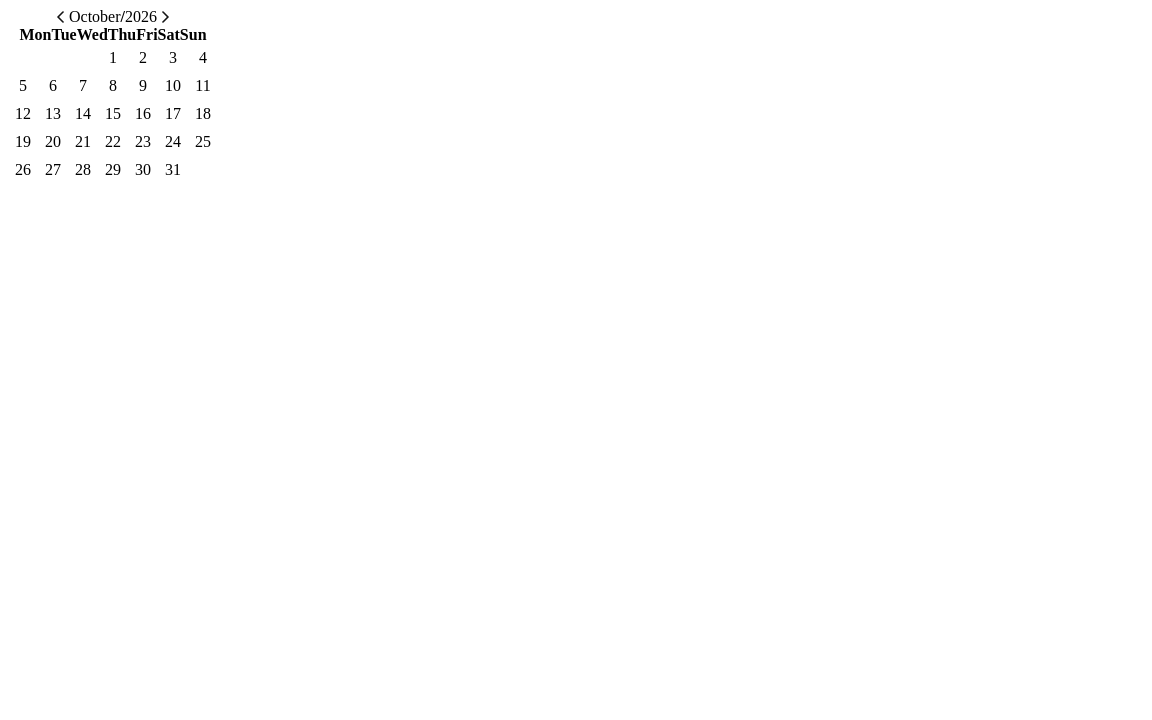
Scenario: DatePicker parts › calendar parts › renders days, weekdays, months and years from render functions
The width and height of the screenshot is (1152, 720).
Step 1. Click the button "October" → (95, 17), box left=69, top=8, right=120, bottom=26
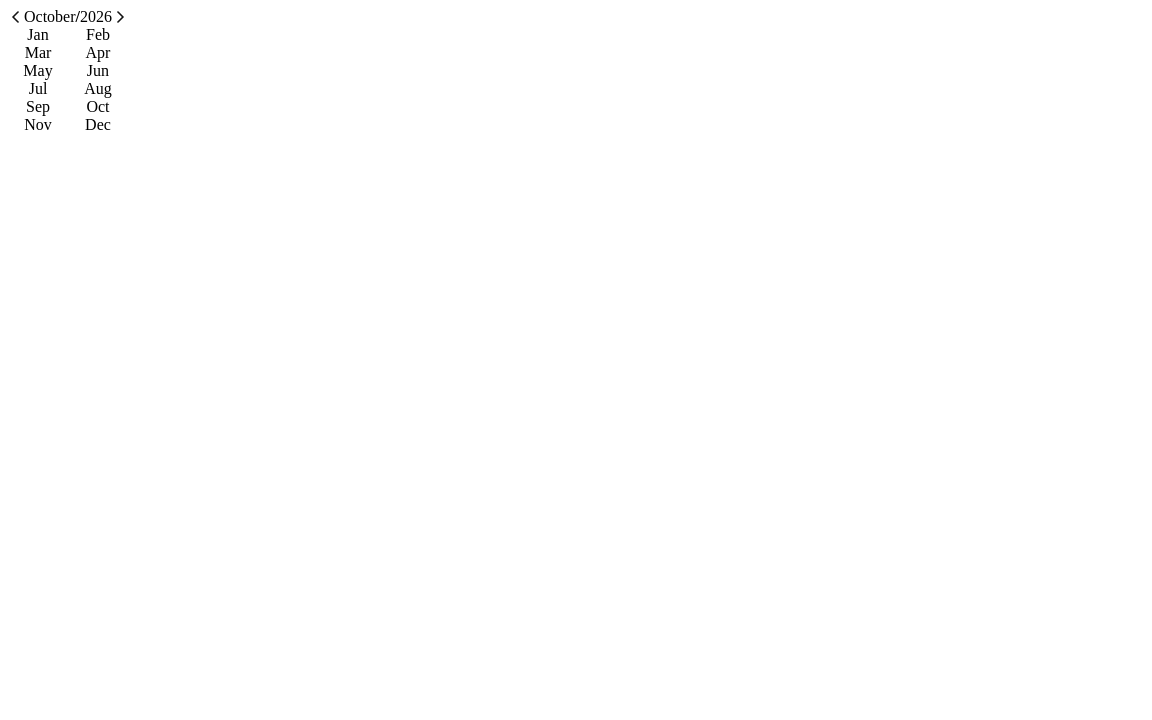
Step 2. Click the button "2026" → (96, 17), box left=80, top=8, right=112, bottom=26
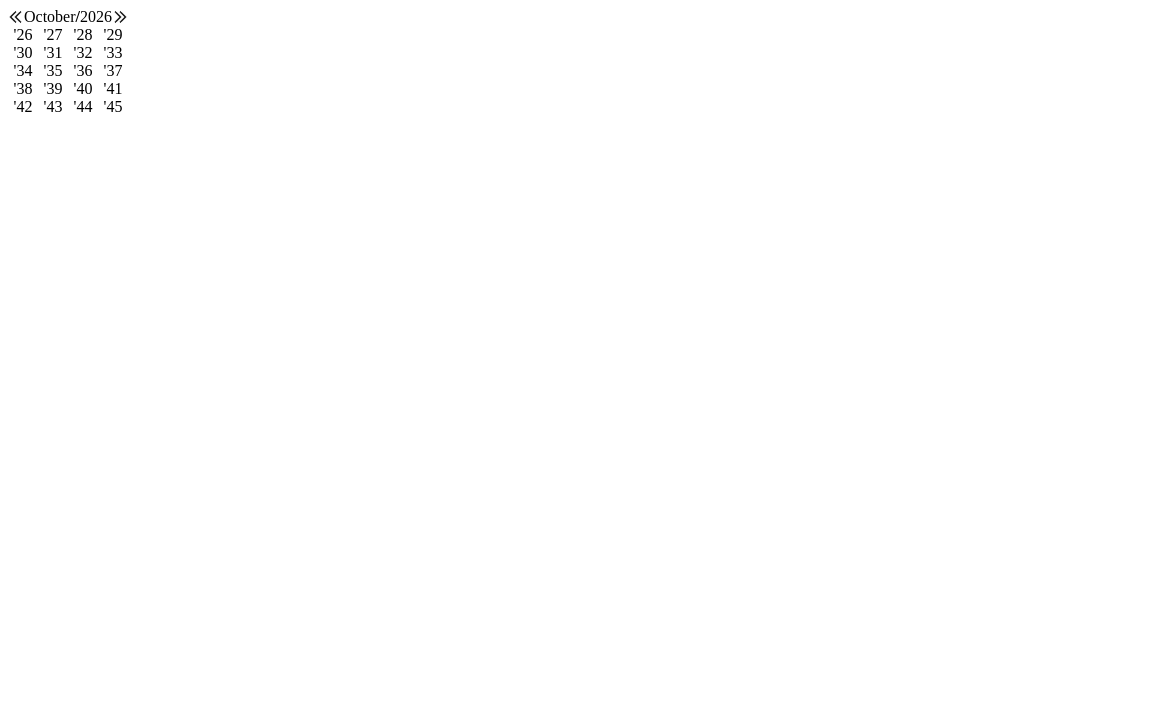
Expected: the button "'26" is shown, left=8, top=26, right=38, bottom=44
